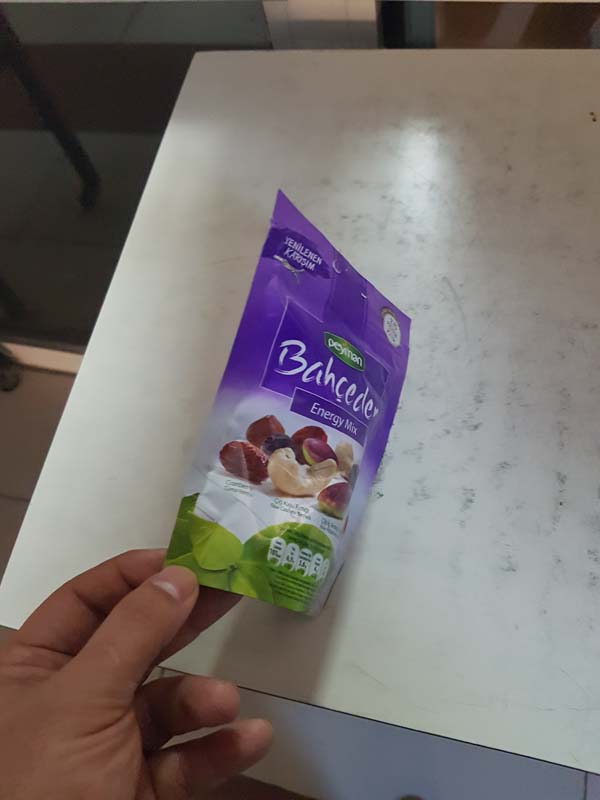bahcedenenergymix: (202, 188, 429, 651)
